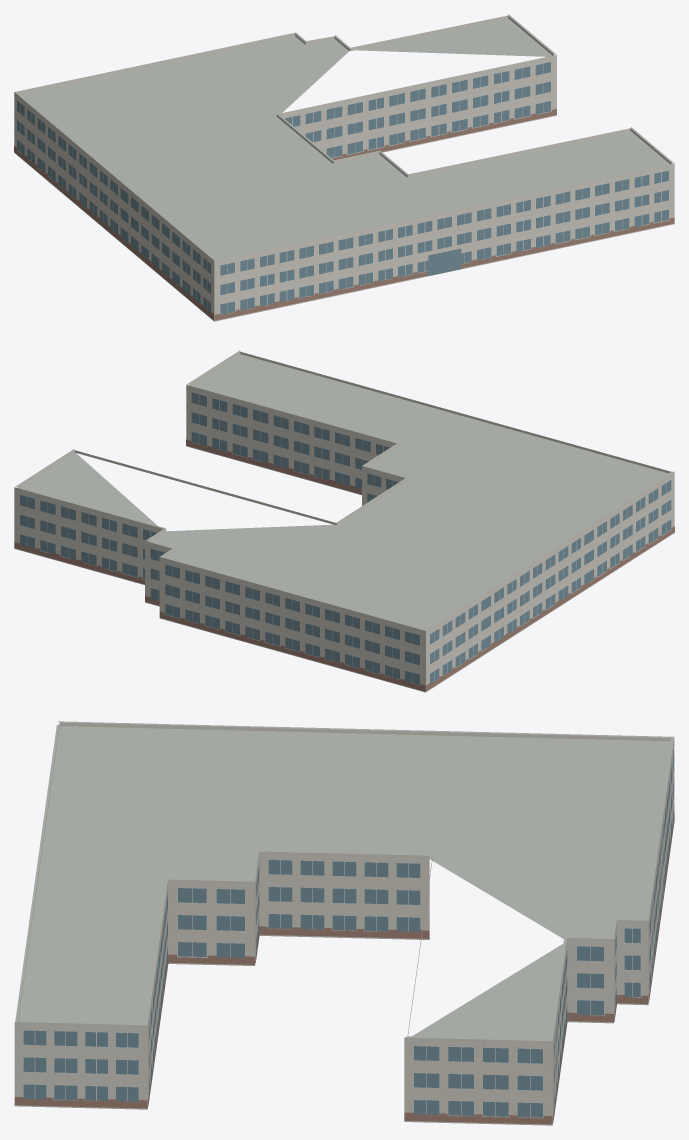
File: public-63323d3d-8c0f-4701-a631-e4bbf5f5ca70.glb
The picture shows the model from 3 angles, top to bottom: view 1: azimuth 30°, elevation 25°; view 2: azimuth 150°, elevation 25°; view 3: azimuth 270°, elevation 25°; orthographic projection. The views are drawn at different scales.
Visible parts, largest first — view 1: public-63323d3d-8c0f-4701-a631-e4bbf5f5ca70; view 2: public-63323d3d-8c0f-4701-a631-e4bbf5f5ca70; view 3: public-63323d3d-8c0f-4701-a631-e4bbf5f5ca70.
Part boxes in pixels (x1,y1,x2,y2): public-63323d3d-8c0f-4701-a631-e4bbf5f5ca70: (14,14,674,321); public-63323d3d-8c0f-4701-a631-e4bbf5f5ca70: (14,350,674,692); public-63323d3d-8c0f-4701-a631-e4bbf5f5ca70: (14,721,674,1125).
Size of the model in its own units: 74.53 by 9.15 by 64.95.
